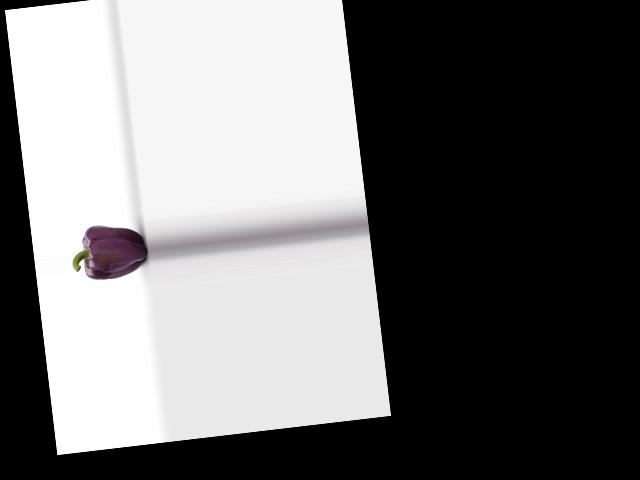bell_pepper: (69, 216, 148, 289)
